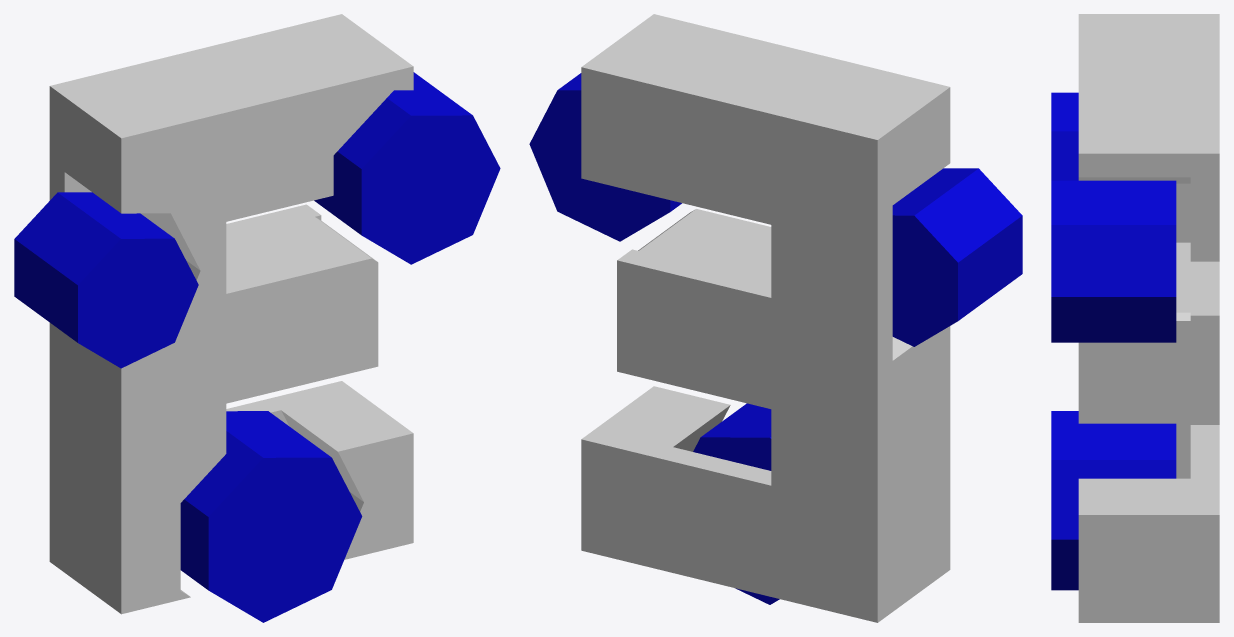
Rendered from Ch_Lite_E_01.fbx.
3 renders of one model, left to right at view 1: azimuth 30°, elevation 25°; view 2: azimuth 150°, elevation 25°; view 3: azimuth 270°, elevation 25°, orthographic. The views are drawn at different scales.
Visible parts, largest first — view 1: sphere1; view 2: sphere1; view 3: sphere1.
Part boxes in pixels (x1=…): sphere1: x1=14, y1=14, x2=500, y2=622; sphere1: x1=529, y1=14, x2=1022, y2=622; sphere1: x1=1051, y1=14, x2=1219, y2=622.
Bounding box in the file's own units: 0.681 × 0.7799 × 0.2387.
